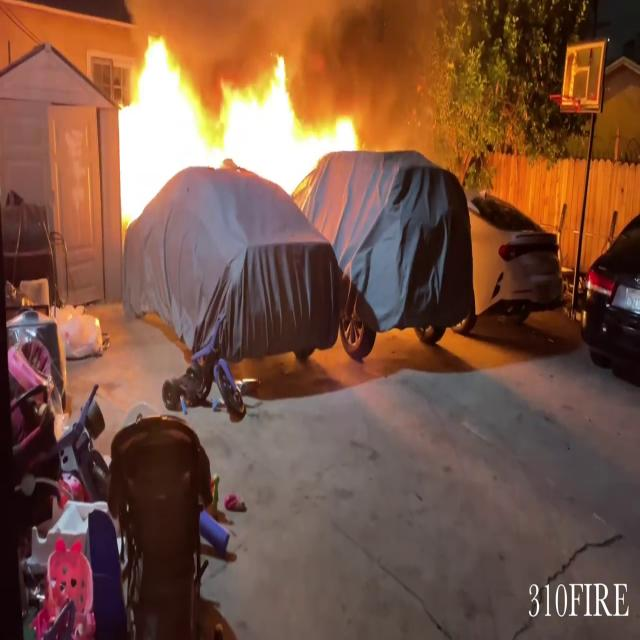Fire: (113, 26, 363, 212)
